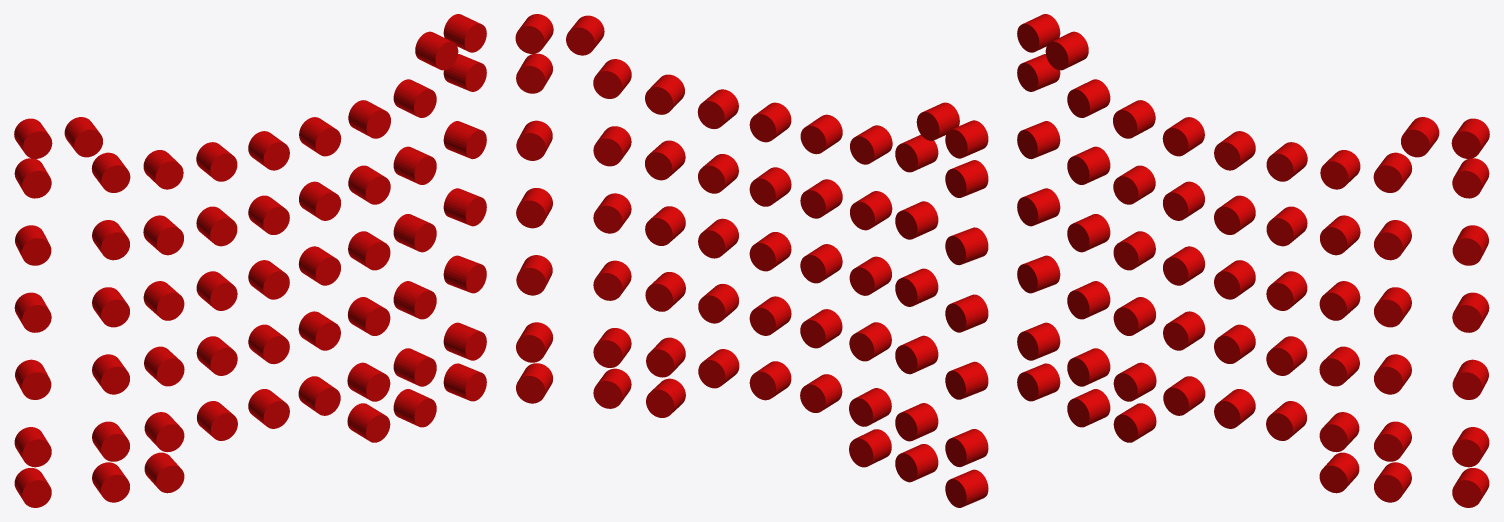
The picture shows the model from 3 angles, left to right: view 1: azimuth 30°, elevation 25°; view 2: azimuth 150°, elevation 25°; view 3: azimuth 330°, elevation 25°; orthographic projection.
Bounding box in the file's own units: 0.0176 × 0.0136 × 0.00244.
